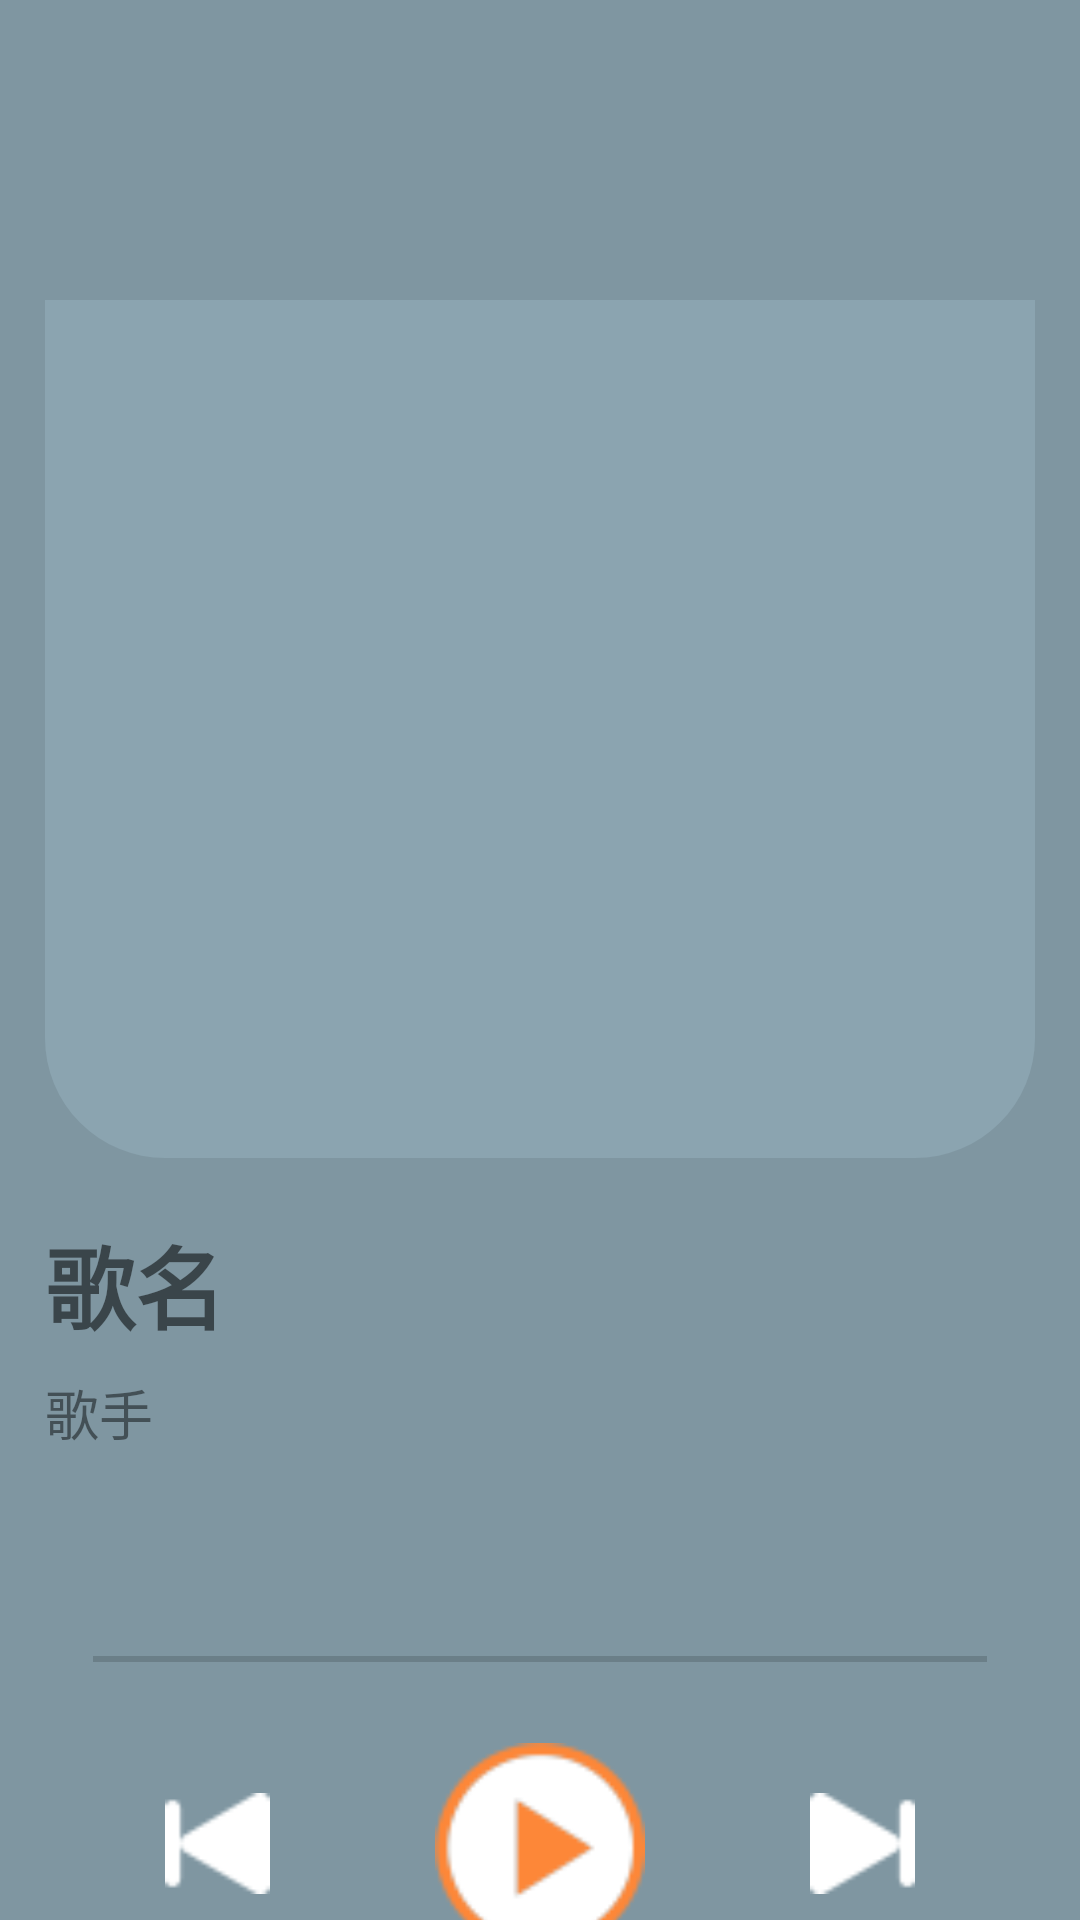

Named icons in this screenshot (1080 x 1920) and their bounding boxes, (x1, y1, x2, y2):
last: (165, 1793, 270, 1894)
next: (810, 1793, 915, 1894)
